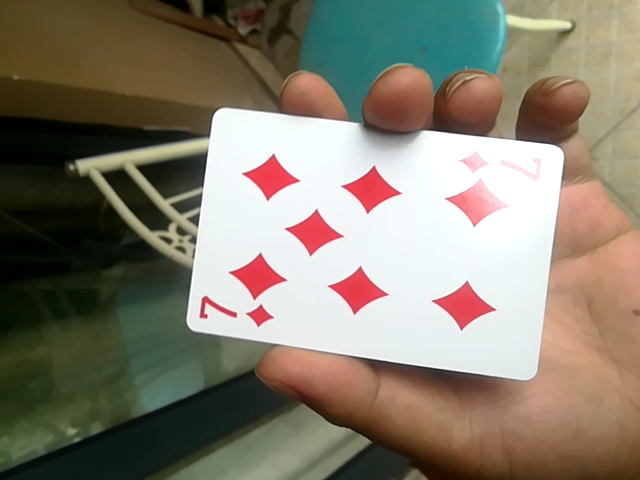fk 7: (178, 102, 561, 381)
